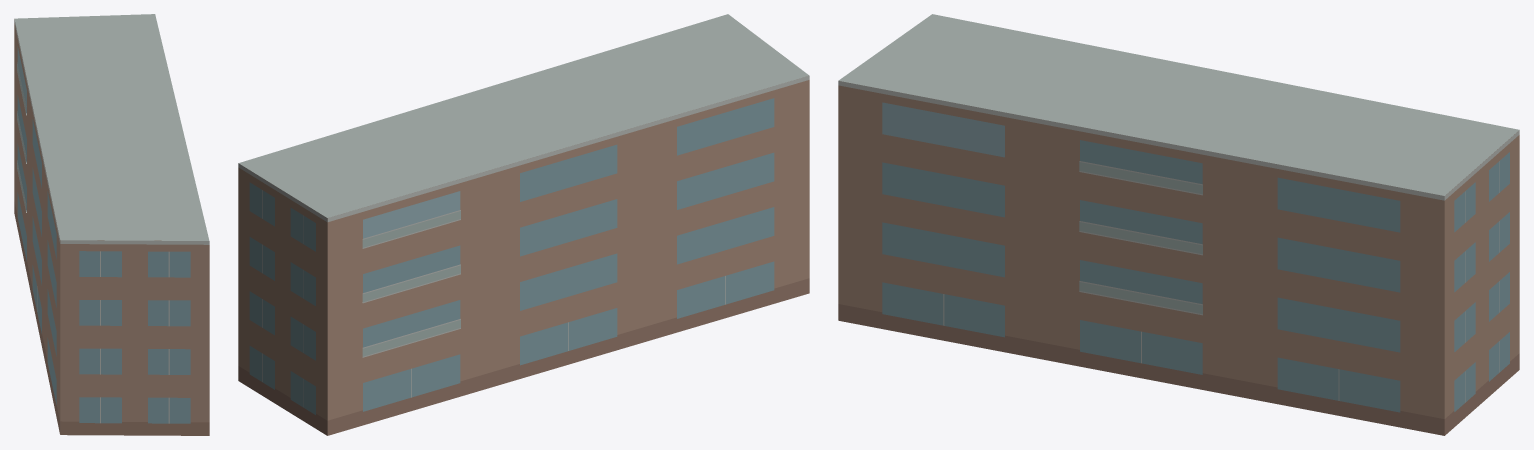
Rendered from survey-upis-32816094.glb.
3 views of the same model, side by side, from view 1: azimuth 30°, elevation 25°; view 2: azimuth 150°, elevation 25°; view 3: azimuth 270°, elevation 25° (orthographic). The views are drawn at different scales.
Visible parts, largest first — view 1: survey-upis-32816094.tmp; view 2: survey-upis-32816094.tmp; view 3: survey-upis-32816094.tmp.
Boxes of the visible parts, x1,y1,x2,y2 form: survey-upis-32816094.tmp: (14,14,209,435); survey-upis-32816094.tmp: (238,14,809,435); survey-upis-32816094.tmp: (838,14,1519,435).
Size of the model in its own units: 20.51 by 12.6 by 32.45.
